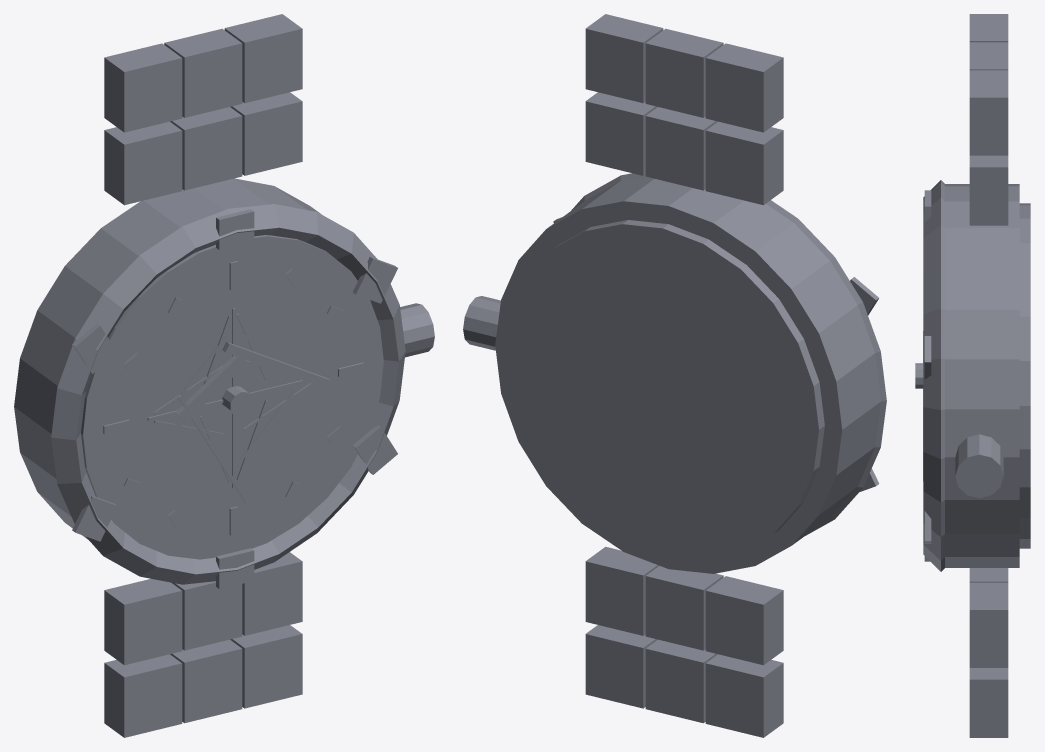
File: rlj_overseas.fbx
3 renders of one model, left to right at view 1: azimuth 30°, elevation 25°; view 2: azimuth 150°, elevation 25°; view 3: azimuth 270°, elevation 25°, orthographic. The views are drawn at different scales.
Parts seen in each view (by area): view 1: Caja__metal_laton, Esfera__esmalte_azul, Caja__metal_oro_cepillado, Esfera__metal_oro_pulido, Manecillas__metal_oro_pulido; view 2: Caja__metal_laton; view 3: Caja__metal_laton, Caja__metal_oro_cepillado, Manecillas__metal_oro_pulido.
Boxes of the visible parts, x1,y1,x2,y2 form: Caja__metal_laton: (14,14,434,737); Esfera__esmalte_azul: (81,235,383,559); Caja__metal_oro_cepillado: (72,209,397,589); Esfera__metal_oro_pulido: (103,261,364,535); Manecillas__metal_oro_pulido: (175,341,330,423); Caja__metal_laton: (463,14,886,737); Caja__metal_laton: (923,14,1030,737); Caja__metal_oro_cepillado: (924,190,931,561); Manecillas__metal_oro_pulido: (915,363,923,388).
Size of the model in its own units: 135 by 220 by 36.
